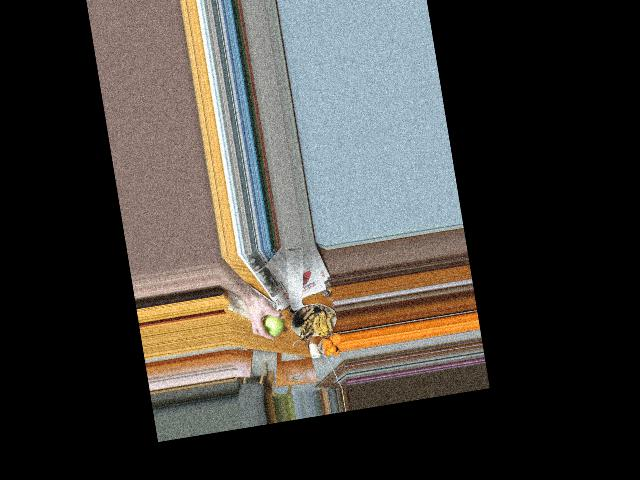apple: (258, 307, 285, 338)
